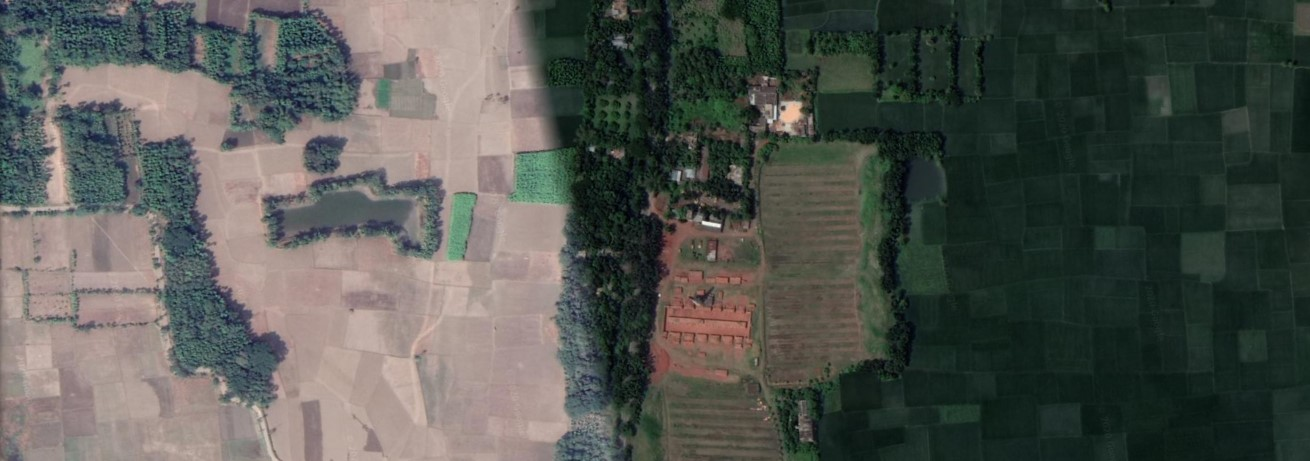kiln: (660, 282, 763, 349)
